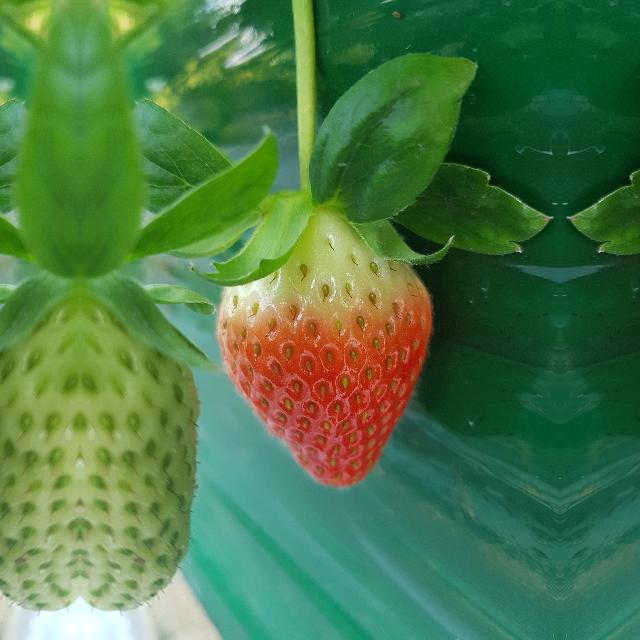Health_25: (80, 269, 192, 611), (0, 269, 80, 611)
Health_75: (215, 204, 433, 488)
